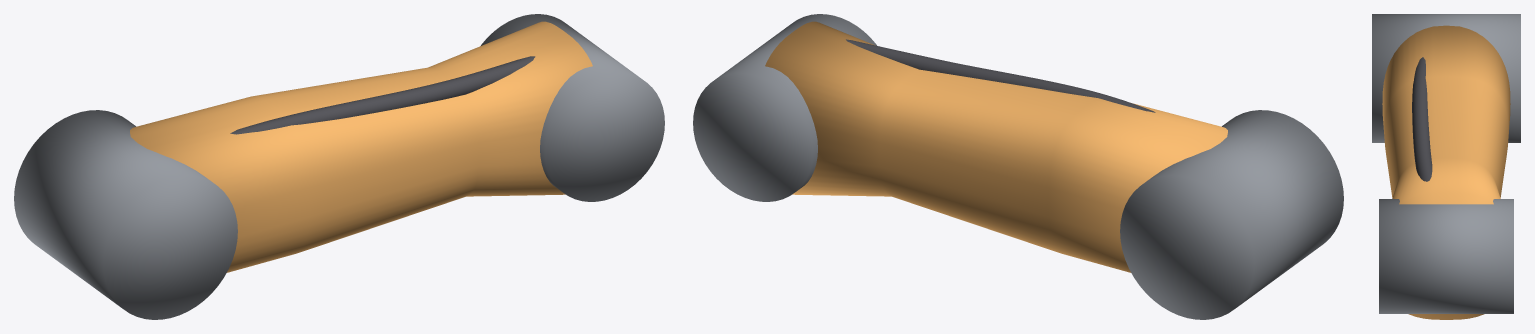
The model's file is forearm.glb.
3 views of the same model, side by side, from view 1: azimuth 30°, elevation 25°; view 2: azimuth 150°, elevation 25°; view 3: azimuth 270°, elevation 25° (orthographic). The views are drawn at different scales.
Visible parts, largest first — view 1: world; view 2: world; view 3: world.
Boxes of the visible parts, left/top/right/bottom form: world: left=14, top=14, right=664, bottom=319; world: left=693, top=14, right=1343, bottom=319; world: left=1372, top=14, right=1520, bottom=319.
Bounding box in the file's own units: 0.387 × 0.1 × 0.106.
